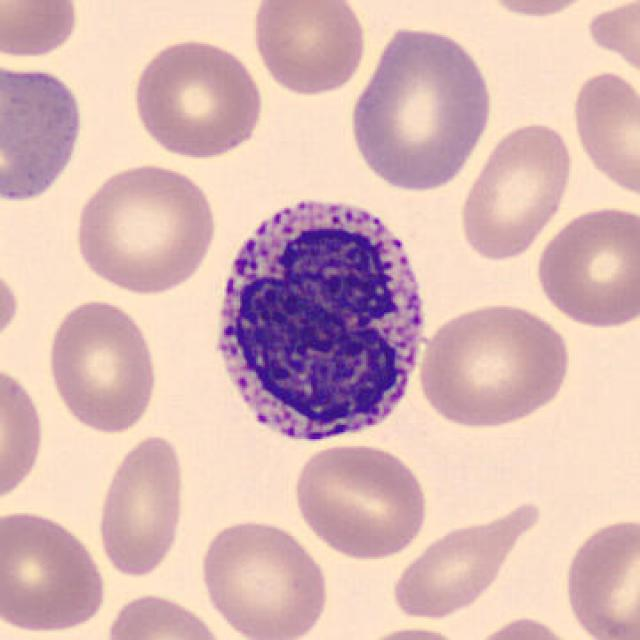Basophil: (197, 182, 439, 456)
Lymphocyte: (0, 51, 92, 213)
RBC: (345, 21, 498, 194), (412, 296, 574, 432), (70, 159, 220, 296), (388, 494, 546, 622), (128, 35, 267, 162), (290, 437, 432, 561), (455, 118, 576, 263), (195, 515, 332, 640), (42, 294, 162, 436), (0, 504, 110, 636), (92, 430, 188, 580), (532, 201, 638, 331), (249, 0, 370, 99), (558, 511, 640, 640), (567, 67, 638, 203), (0, 358, 48, 513), (101, 589, 231, 640), (0, 0, 82, 62), (466, 612, 586, 640), (472, 0, 604, 19), (348, 622, 473, 640), (0, 261, 21, 356)
